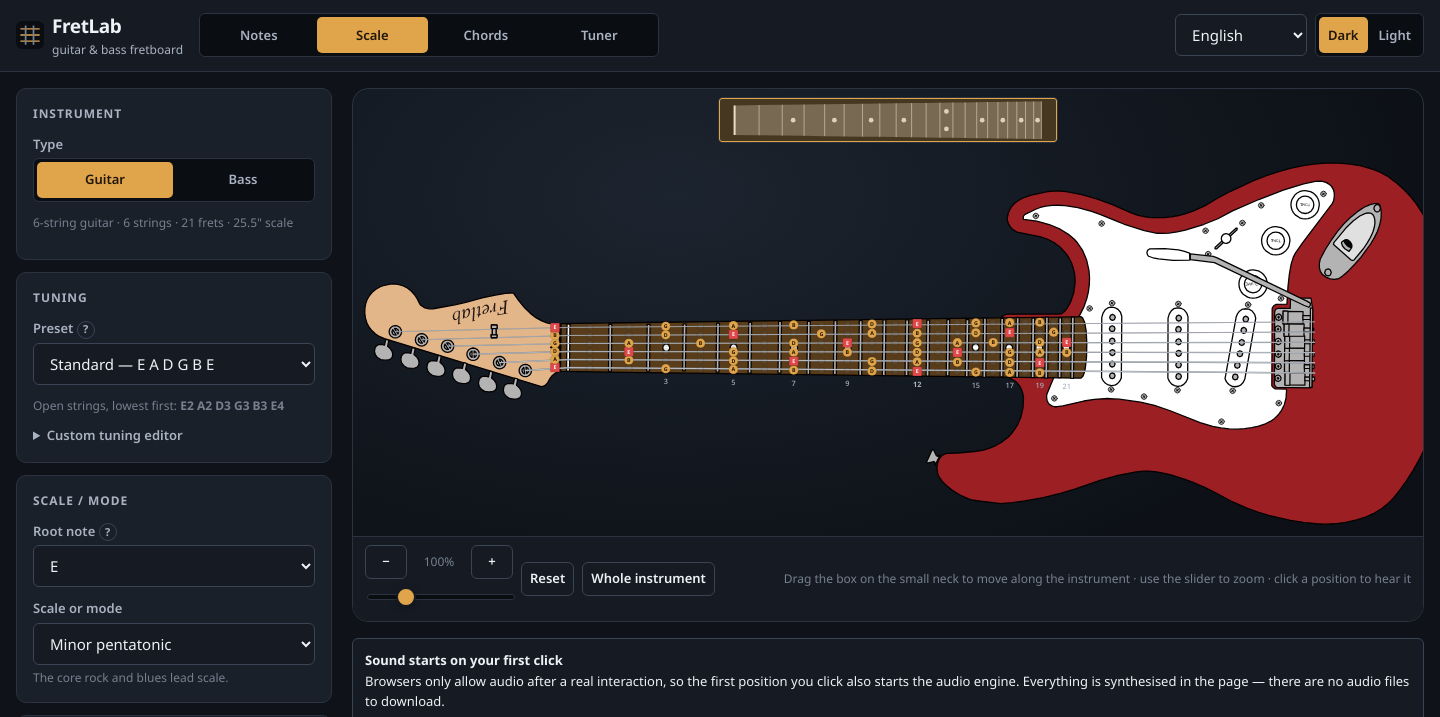
Test: the custom tuning editor › rejects an invalid note and refuses to apply it
The width and height of the screenshot is (1440, 717).
Click the heading "Custom tuning editor".
click(115, 435)  # box [47,426,183,444]
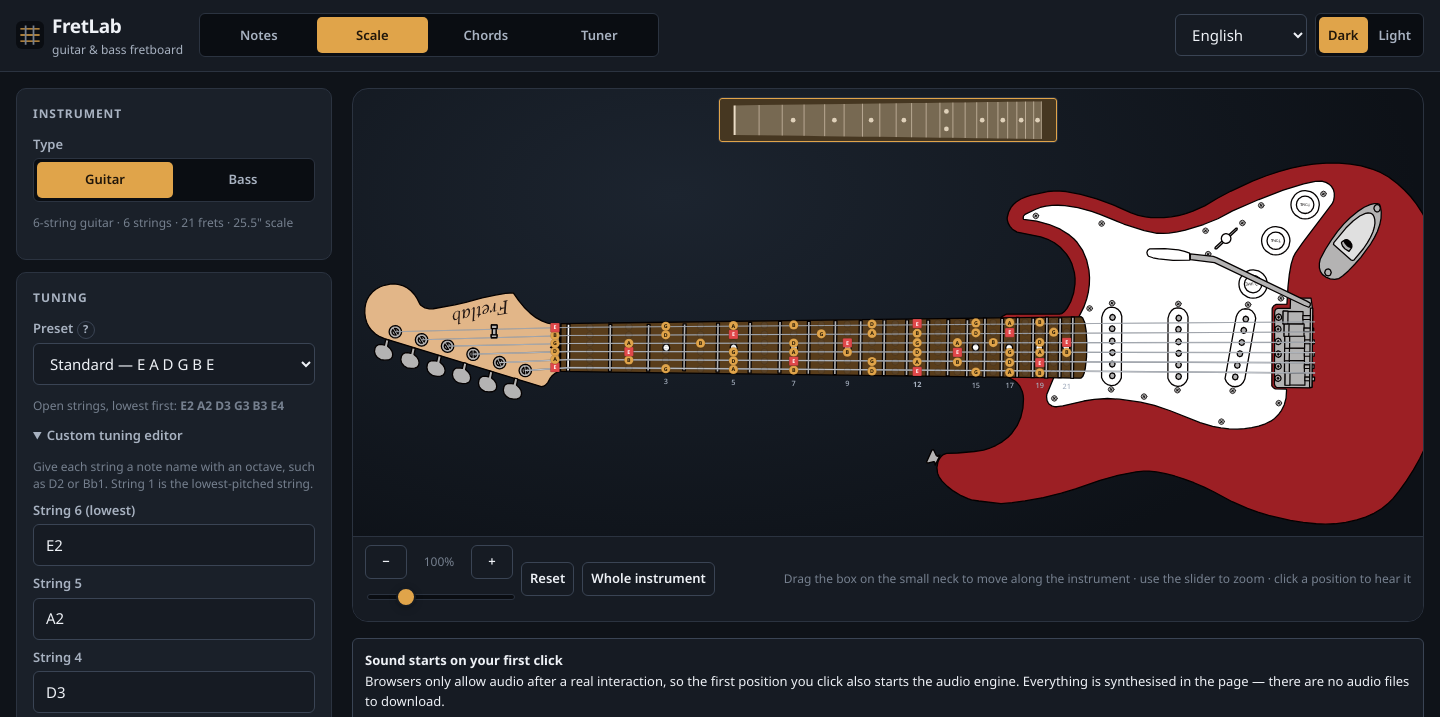
Replace the text in the field labelled "String 6 (lowest)" with "H2" at (174, 545), box [33,524,315,566]
(page scrolled)
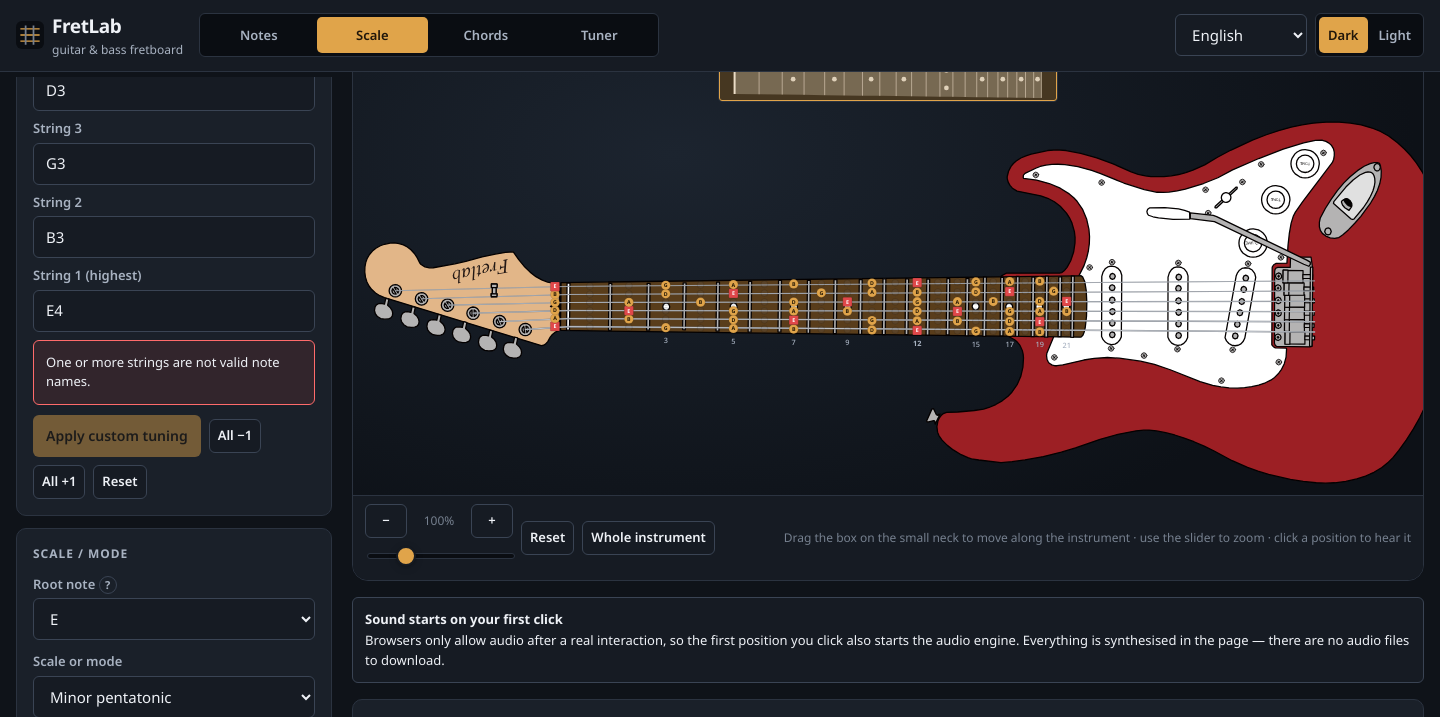
Result: the button "Apply custom tuning" is disabled at [33,414,201,456]
